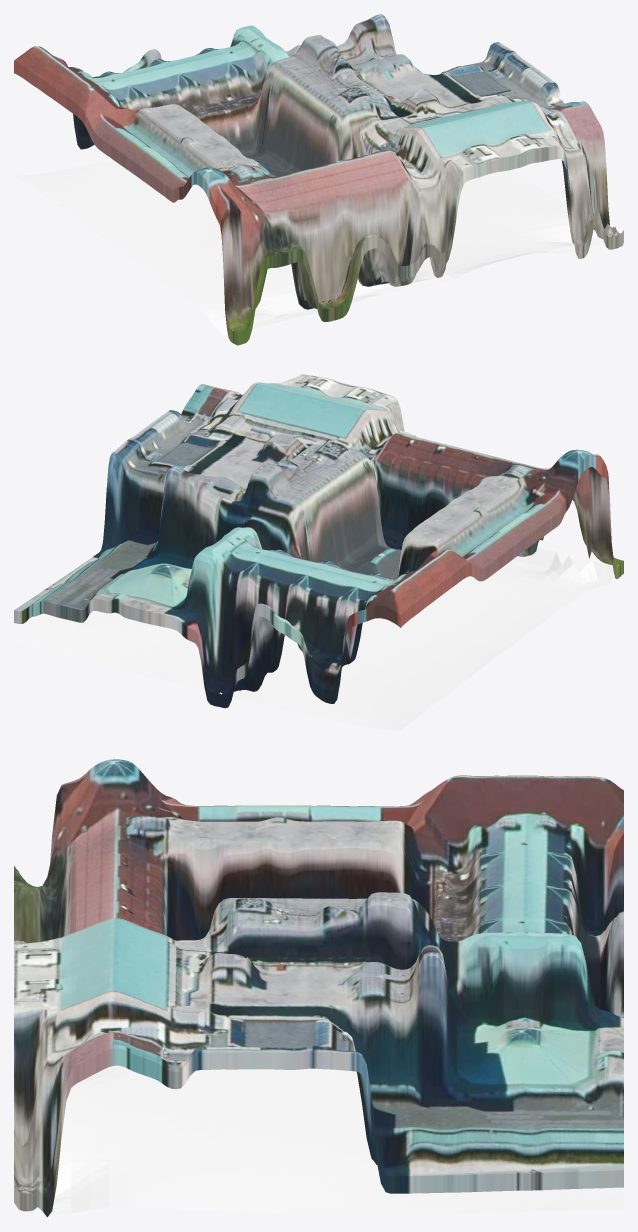
The picture shows the model from 3 angles, top to bottom: view 1: azimuth 30°, elevation 25°; view 2: azimuth 150°, elevation 25°; view 3: azimuth 270°, elevation 25°; orthographic projection. The views are drawn at different scales.
Parts seen in each view (by area): view 1: surface, ground; view 2: surface, ground; view 3: surface, ground.
Part boxes in pixels (left/top/right/bottom): surface: left=14, top=14, right=623, bottom=345; ground: left=14, top=159, right=611, bottom=336; surface: left=14, top=374, right=623, bottom=708; ground: left=14, top=540, right=618, bottom=730; surface: left=14, top=759, right=623, bottom=1217; ground: left=23, top=1065, right=623, bottom=1214.
Bounding box in the file's own units: 128 × 52.55 × 128.
2 materials, 1 textured.
